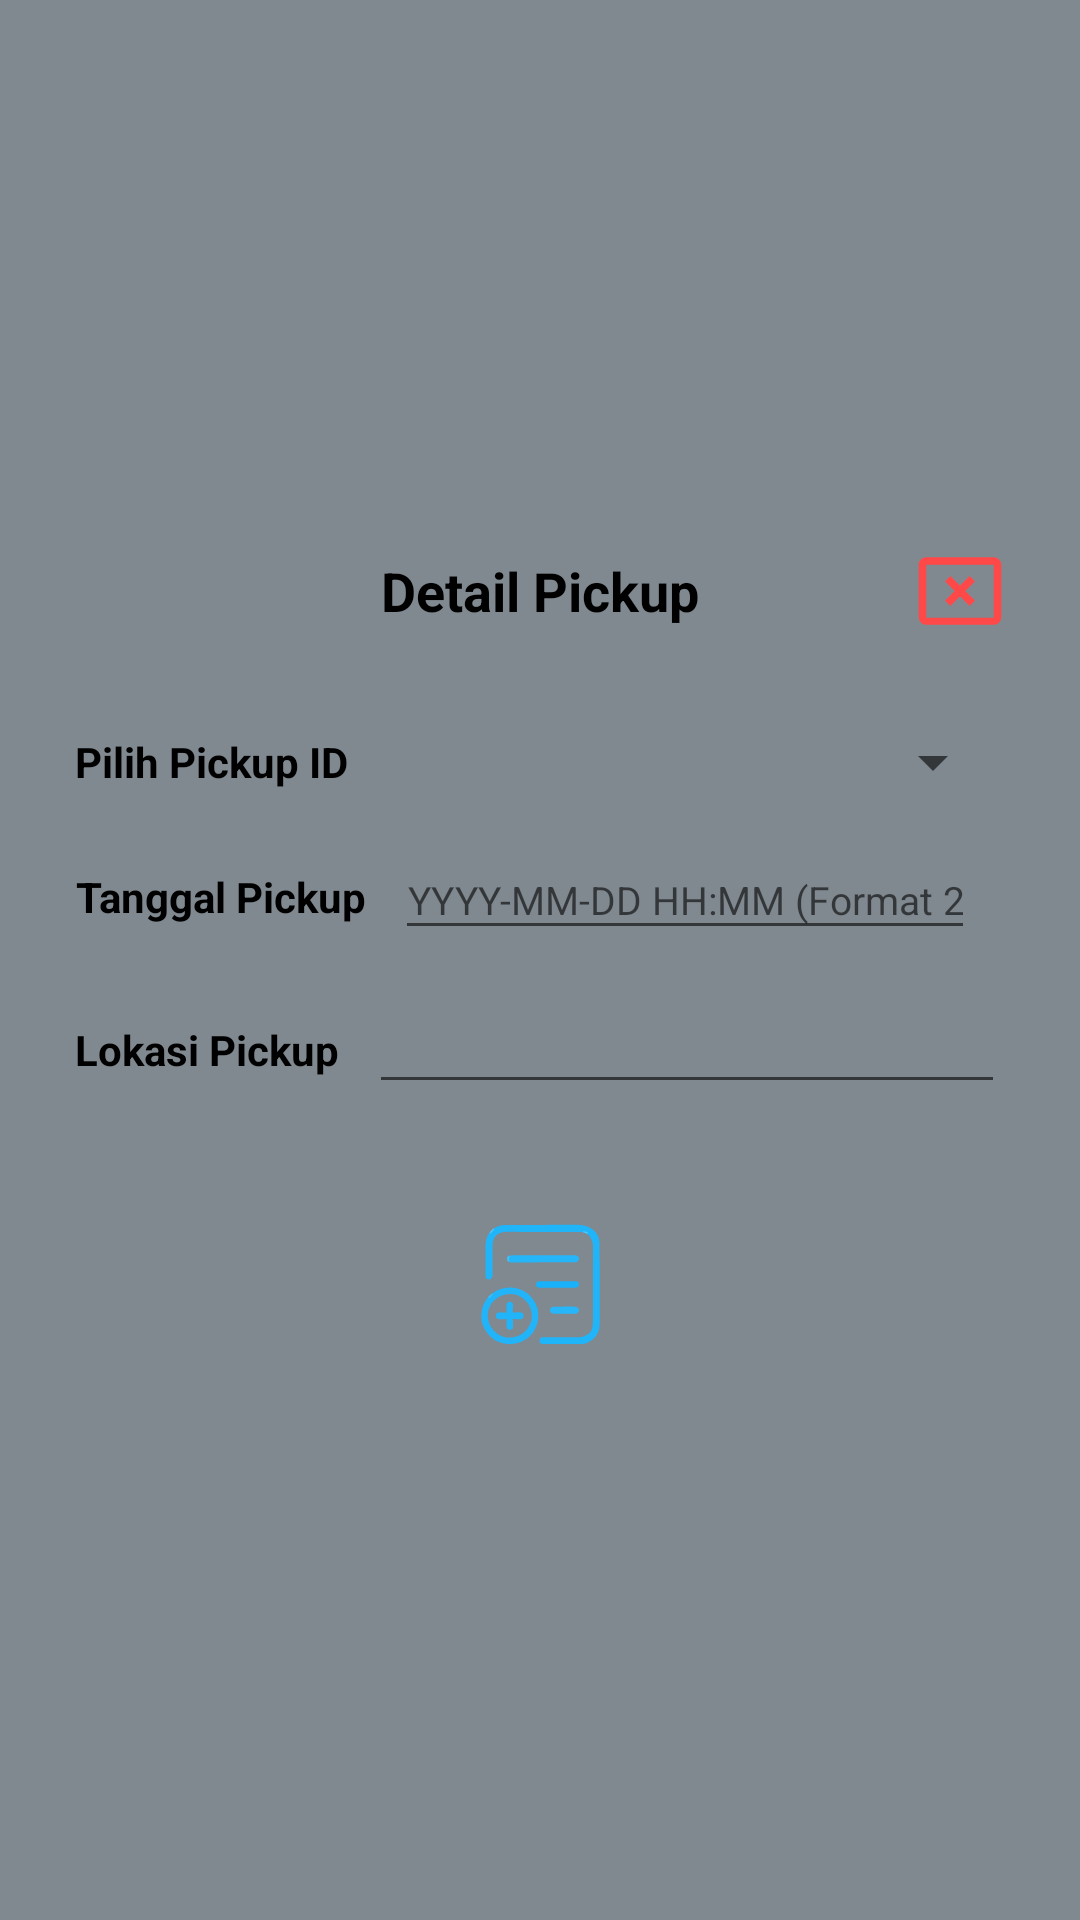

Where icons sit on this 1080 × 1920 app screen, as BBox(x1, y1, x2, y2):
add pickup id: BBox(481, 1224, 600, 1344)
cancel presentation: BBox(918, 557, 1002, 625)
